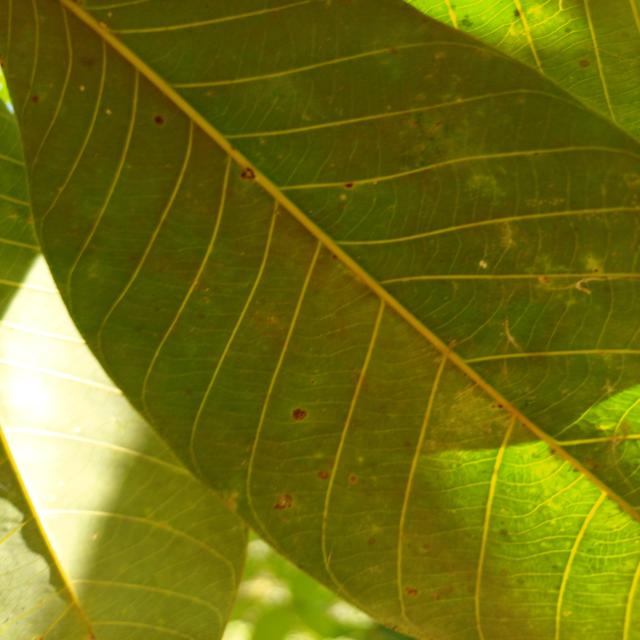Colletotrichum: (241, 168, 255, 180), (292, 409, 306, 420)
